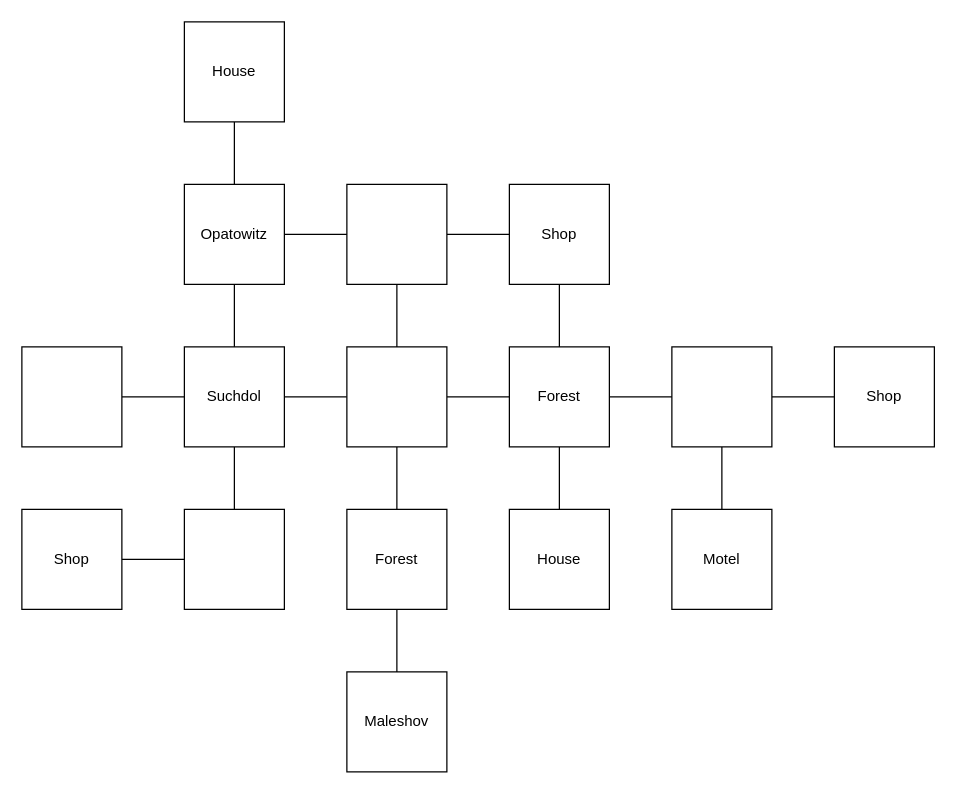
Image size: 956x794. Some labels were removed from this diagram. Here are the shapes that lost their labels. From the top down, the box of each, then its label:
(346, 183, 447, 284): Grund
(21, 346, 122, 447): Traveler
(346, 346, 447, 447): Miskowitz
(671, 346, 772, 447): Kuttenberg
(183, 508, 284, 609): Wysoka
